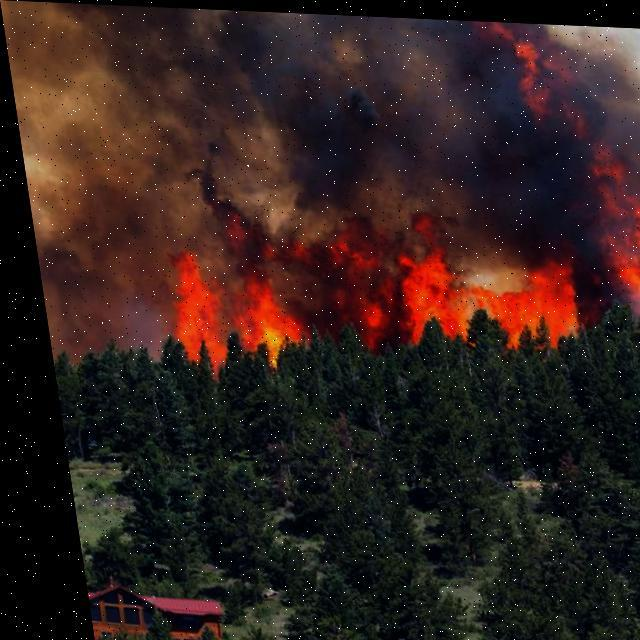Fire: (150, 234, 570, 348), (576, 141, 639, 300)
